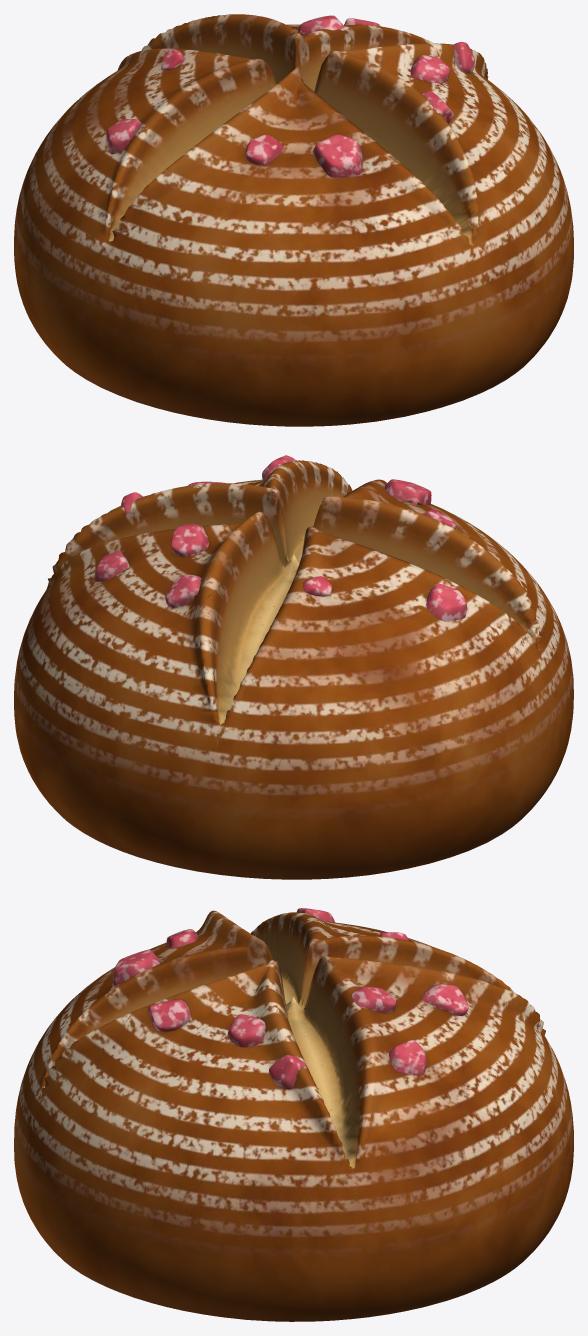
File: campagne--strawberry-freezedried.glb
3 views of the same model, one above another, from view 1: azimuth 30°, elevation 25°; view 2: azimuth 150°, elevation 25°; view 3: azimuth 270°, elevation 25° (orthographic).
Parts seen in each view (by area): view 1: campagne_strawberry-freezedried; view 2: campagne_strawberry-freezedried; view 3: campagne_strawberry-freezedried.
Part boxes in pixels (x1=…): campagne_strawberry-freezedried: x1=14, y1=14, x2=573, y2=426; campagne_strawberry-freezedried: x1=14, y1=455, x2=573, y2=879; campagne_strawberry-freezedried: x1=14, y1=908, x2=573, y2=1321.
Size of the model in its own units: 0.9987 by 0.5303 by 0.9991.
Materials: 1 (1 with a texture image).
